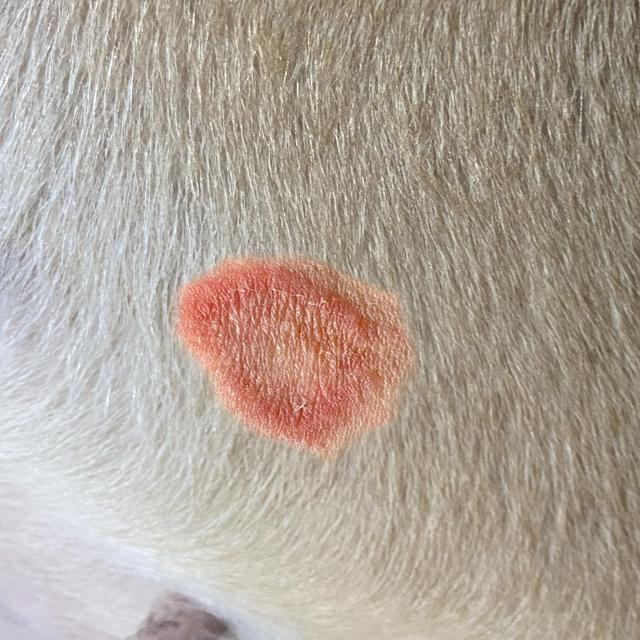ringworm: (154, 250, 430, 459)
